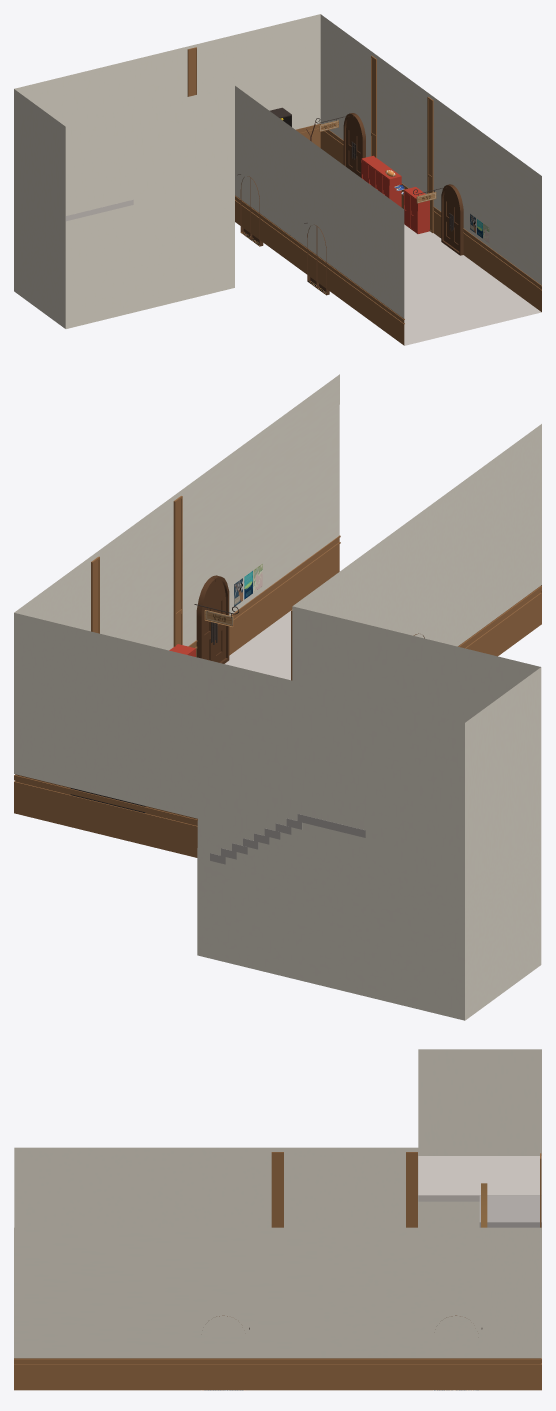
File: corridor2.fbx
The picture shows the model from 3 angles, top to bottom: view 1: azimuth 30°, elevation 25°; view 2: azimuth 150°, elevation 25°; view 3: azimuth 270°, elevation 25°; orthographic projection. The views are drawn at different scales.
Parts seen in each view (by area): view 1: corrodor2; view 2: corrodor2; view 3: corrodor2.
Part boxes in pixels (<box>): corrodor2: <box>14,14,541,345</box>; corrodor2: <box>14,374,541,1020</box>; corrodor2: <box>14,1049,541,1390</box>.
Bounding box in the file's own units: 18.71 × 11.72 × 23.24.
2 materials, 2 textured.
